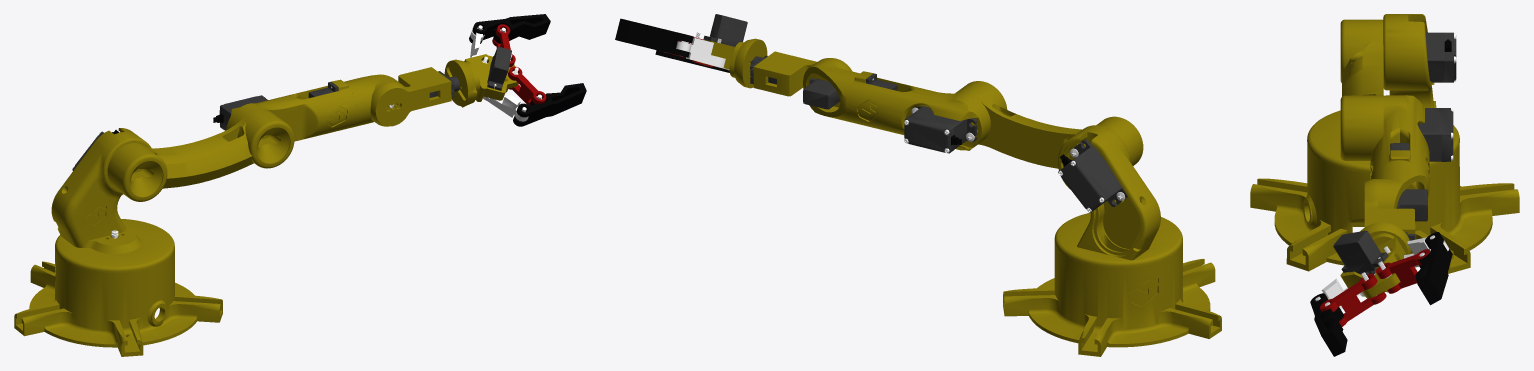
Rendered from Robot6R_Optimized.glb.
The picture shows the model from 3 angles, left to right: view 1: azimuth 30°, elevation 25°; view 2: azimuth 150°, elevation 25°; view 3: azimuth 270°, elevation 25°; orthographic projection. The views are drawn at different scales.
Parts seen in each view (by area): view 1: Robot 6R; view 2: Robot 6R; view 3: Robot 6R.
Boxes of the visible parts, box(x1,y1,x2,y2) form: Robot 6R: box(14, 14, 586, 356); Robot 6R: box(615, 14, 1221, 356); Robot 6R: box(1250, 14, 1519, 356).
Bounding box in the file's own units: 0.5124 × 0.1617 × 0.1727.
